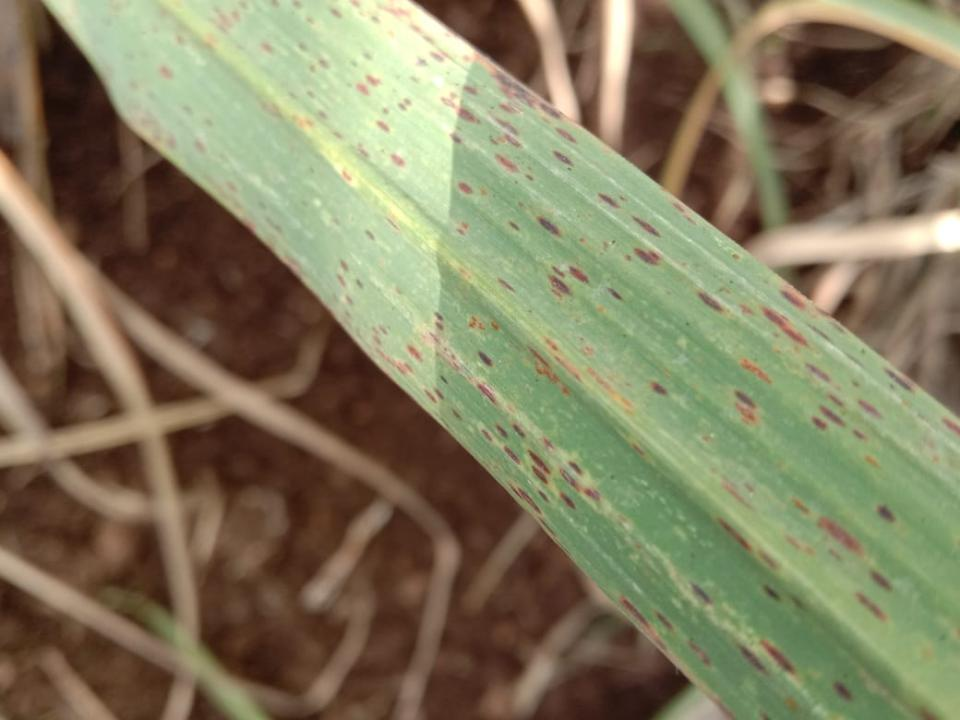Rust: (41, 0, 959, 719)
